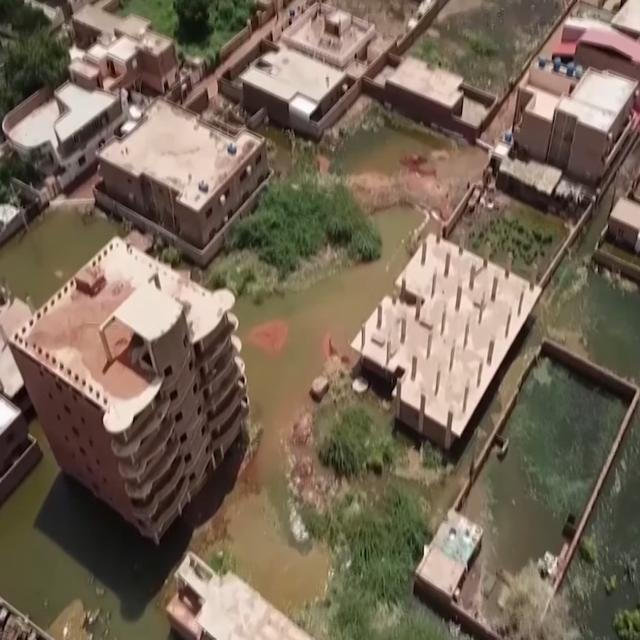flood: (0, 206, 425, 640), (462, 354, 640, 640), (0, 202, 125, 308), (553, 270, 640, 386), (333, 123, 485, 174)
house: (20, 232, 252, 548), (370, 210, 532, 470), (87, 86, 276, 270), (514, 15, 640, 188), (2, 84, 126, 206)
